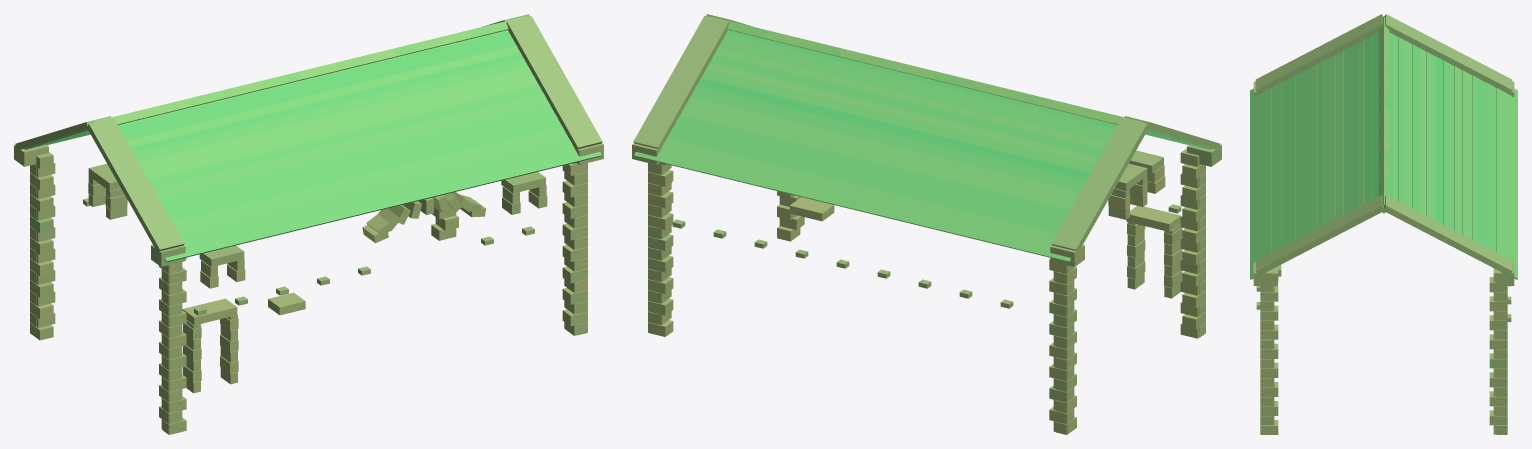
Rendered from SM_Bld_004_Stone.glb.
3 renders of one model, left to right at view 1: azimuth 30°, elevation 25°; view 2: azimuth 150°, elevation 25°; view 3: azimuth 270°, elevation 25°, orthographic. The views are drawn at different scales.
Visible parts, largest first — view 1: SM_Bld_004_Stone; view 2: SM_Bld_004_Stone; view 3: SM_Bld_004_Stone.
Part boxes in pixels (<box>): SM_Bld_004_Stone: <box>14,14,603,434</box>; SM_Bld_004_Stone: <box>632,14,1221,434</box>; SM_Bld_004_Stone: <box>1250,14,1517,434</box>.
Bounding box in the file's own units: 12.96 × 7.39 × 7.65.
